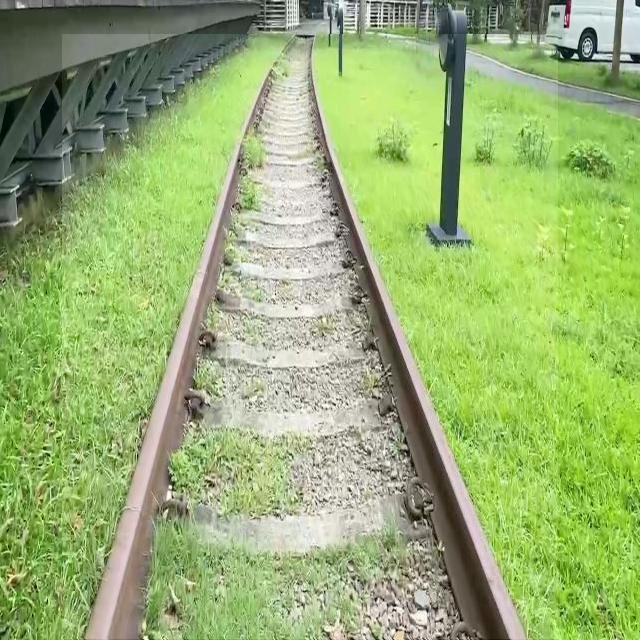rail: (64, 35, 559, 640)
